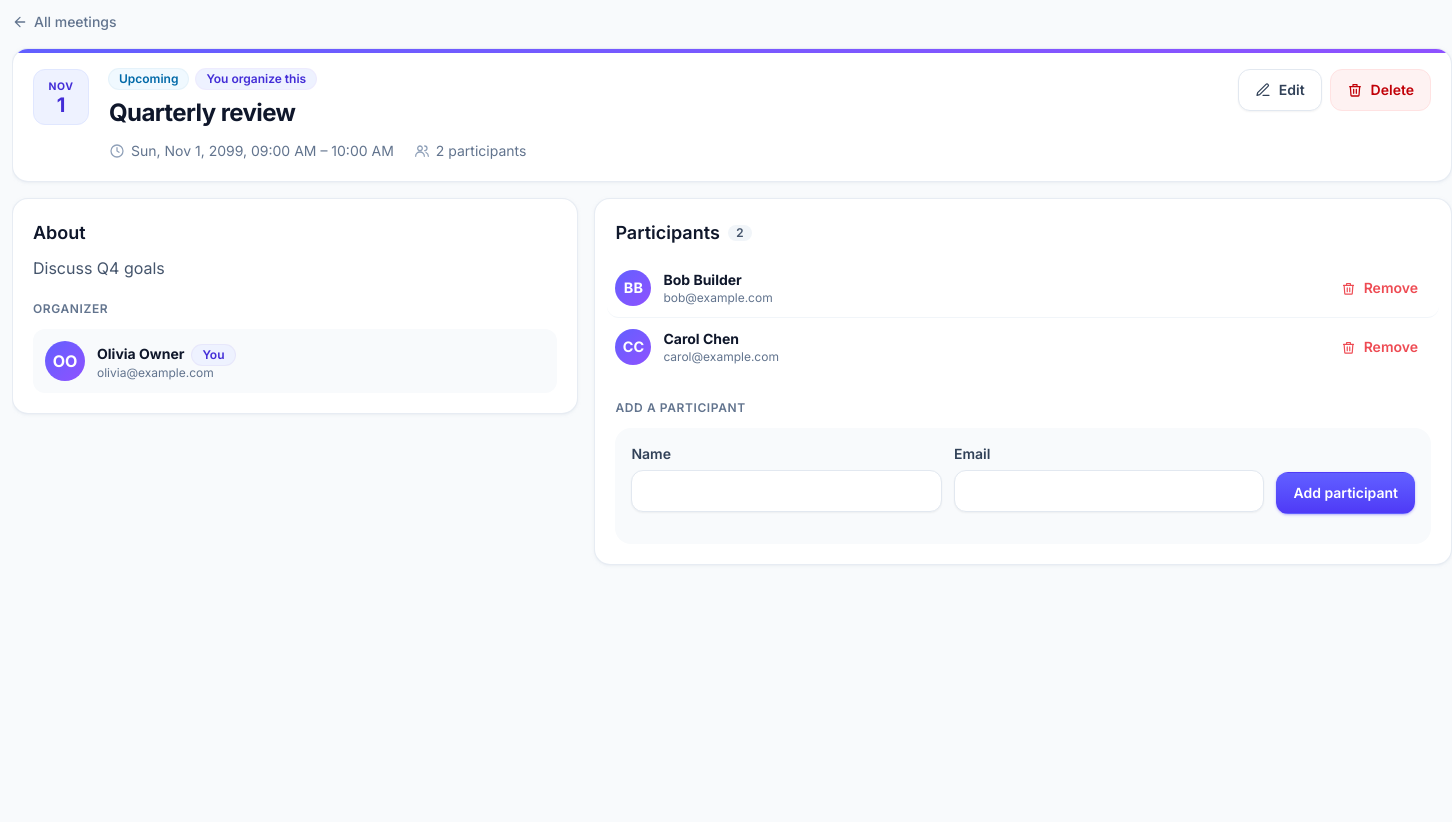
Test: MeetingDetailPage › adds a participant and shows it in the list
The width and height of the screenshot is (1452, 822).
Expected: the heading "Quarterly review" is shown, [109,98,295,127]
Type "Dana" into the field labelled "Name" at point(787, 491), box [631,470,942,512]
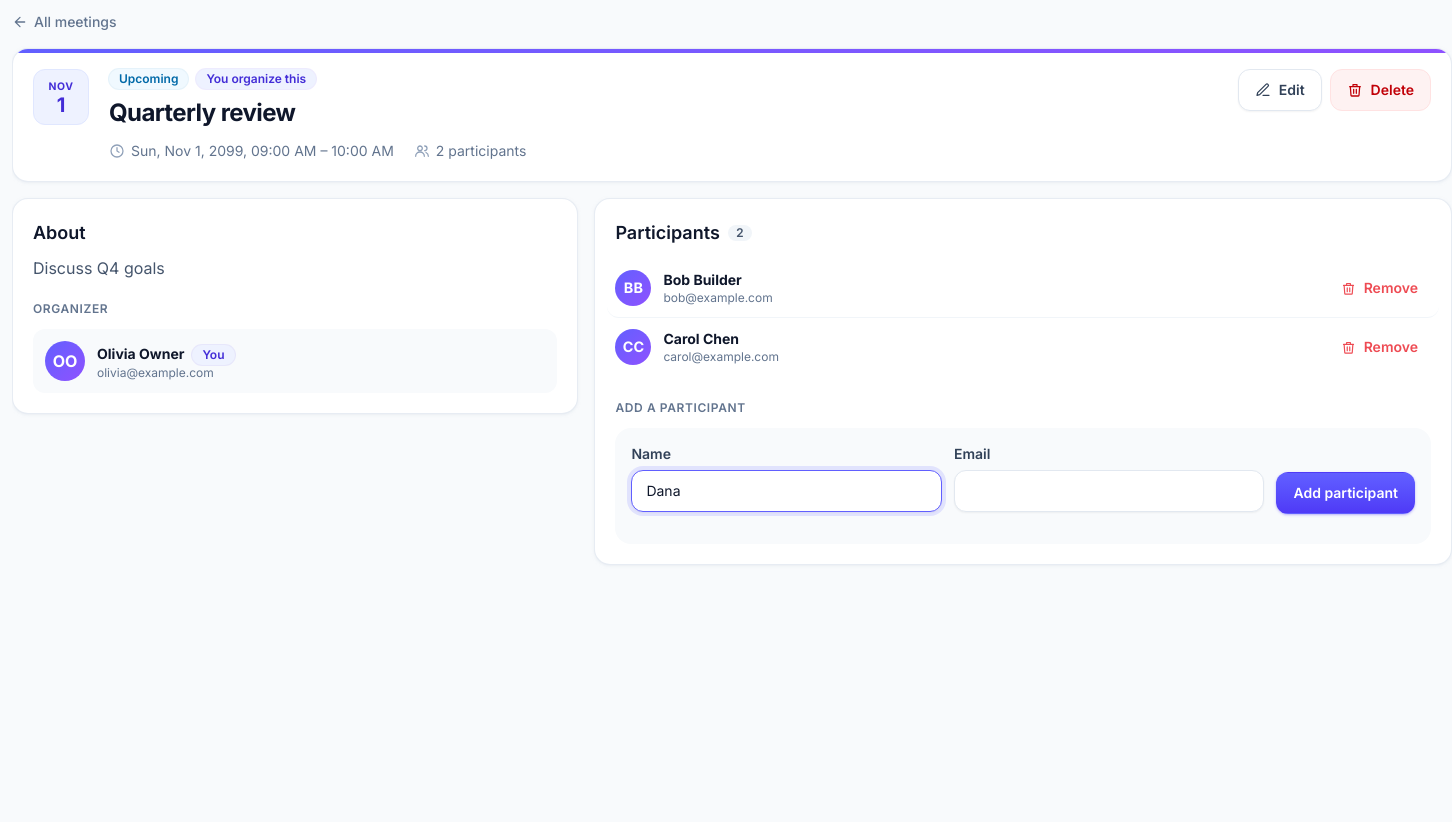
Type "dana@example.com" into the field labelled "Email" at point(1109, 491), box [954,470,1264,512]
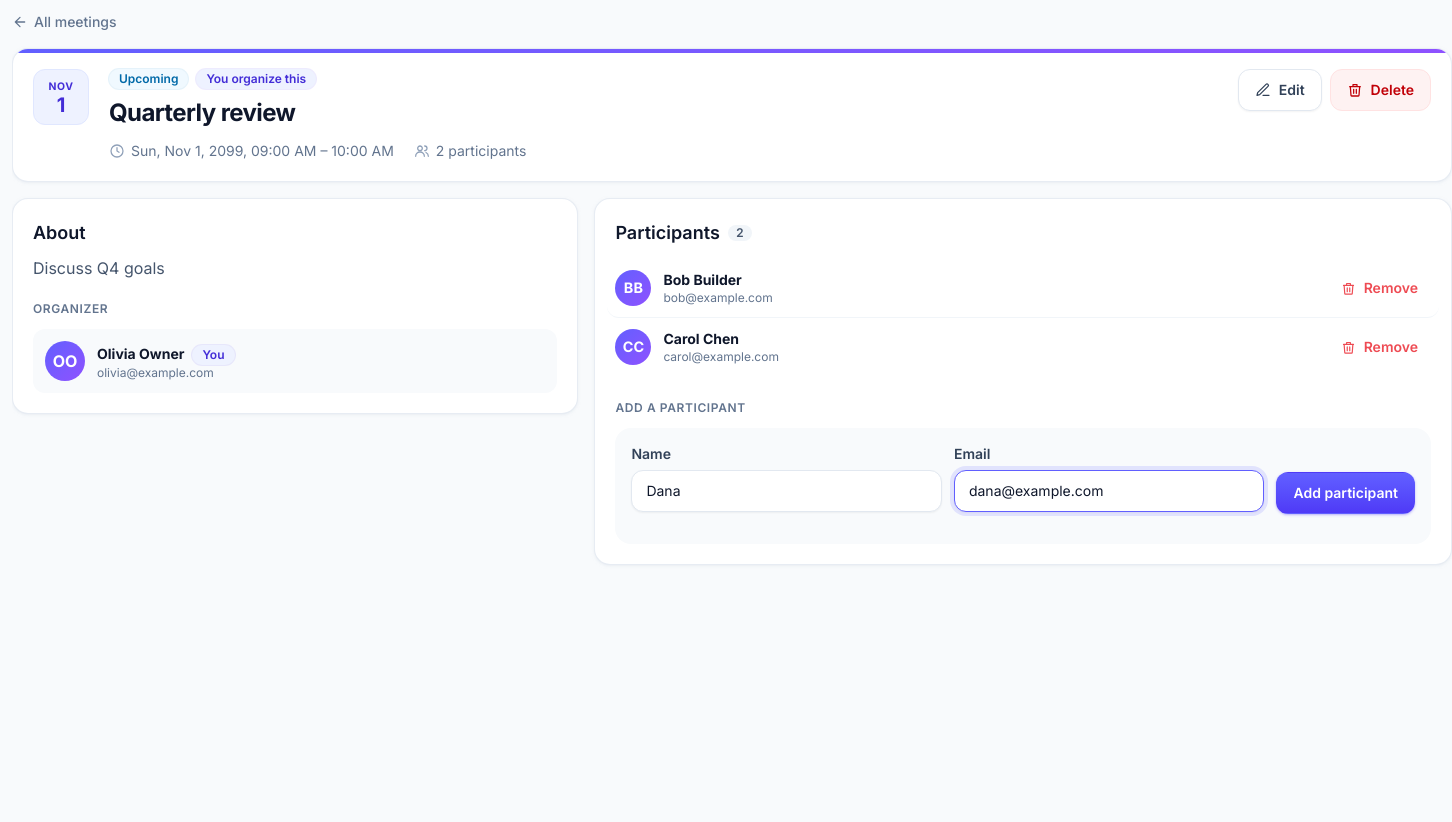
Click the button "Add participant" at point(1346, 493), box [1276,472,1415,514]
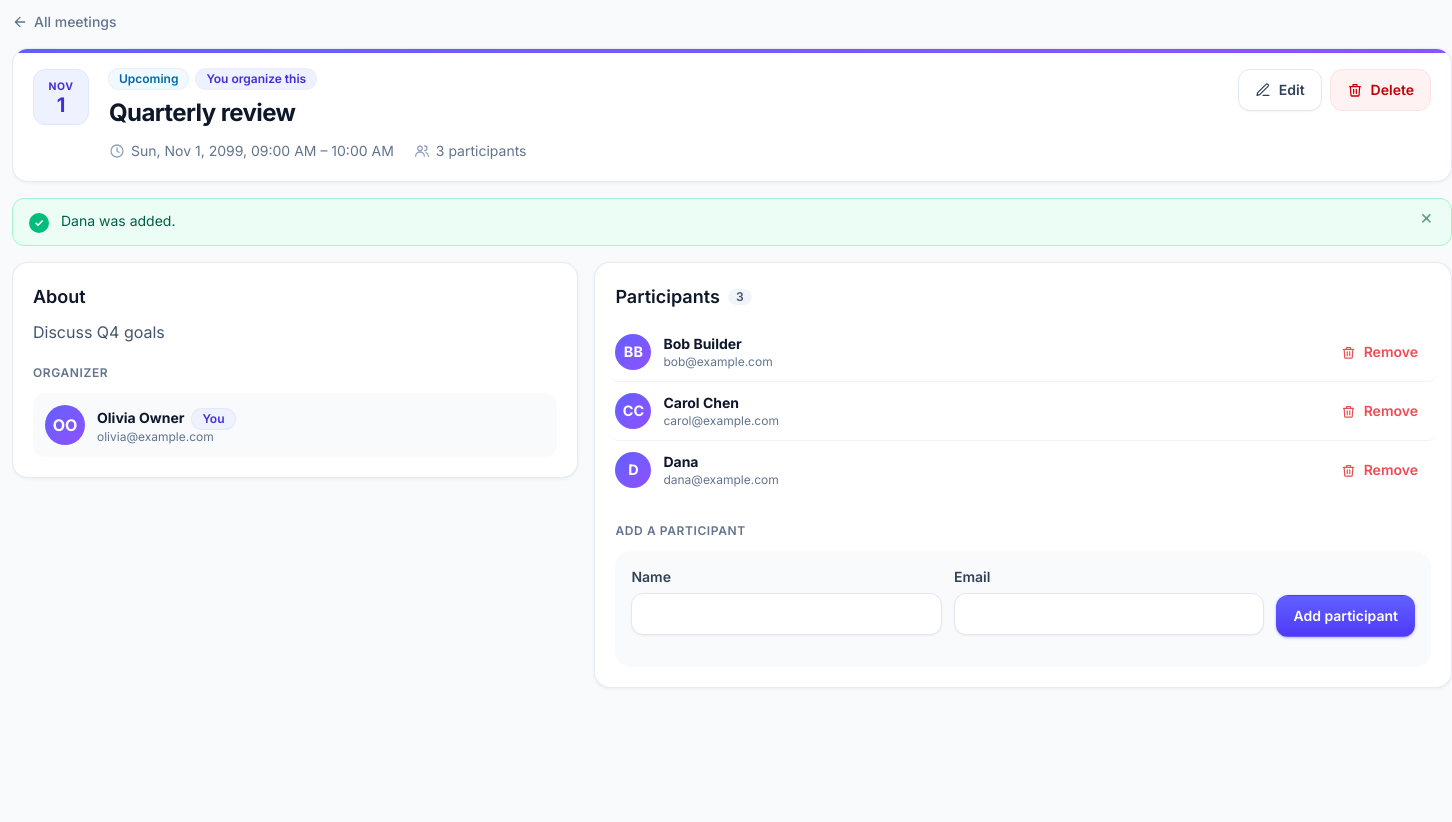
Now the text "Dana" is shown, box [663,453,698,470]
Now the number of list items is 3, box [607,323,1439,382]; [607,382,1439,441]; [607,441,1439,499]
